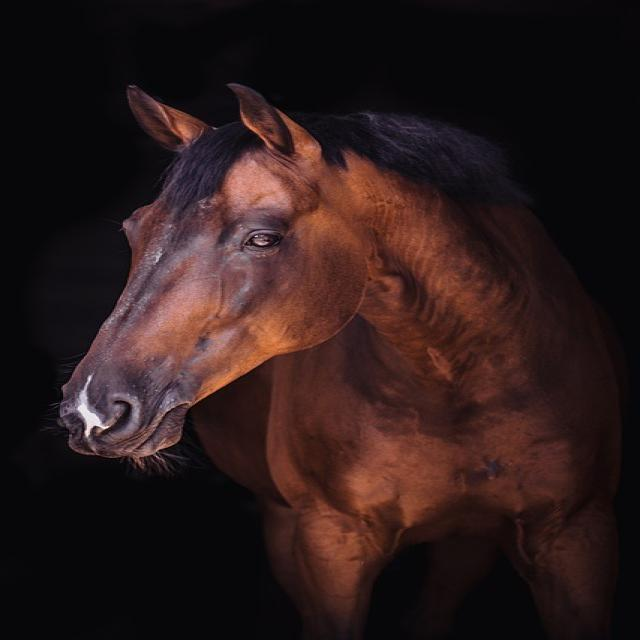Herbivorous: (55, 84, 630, 640)
